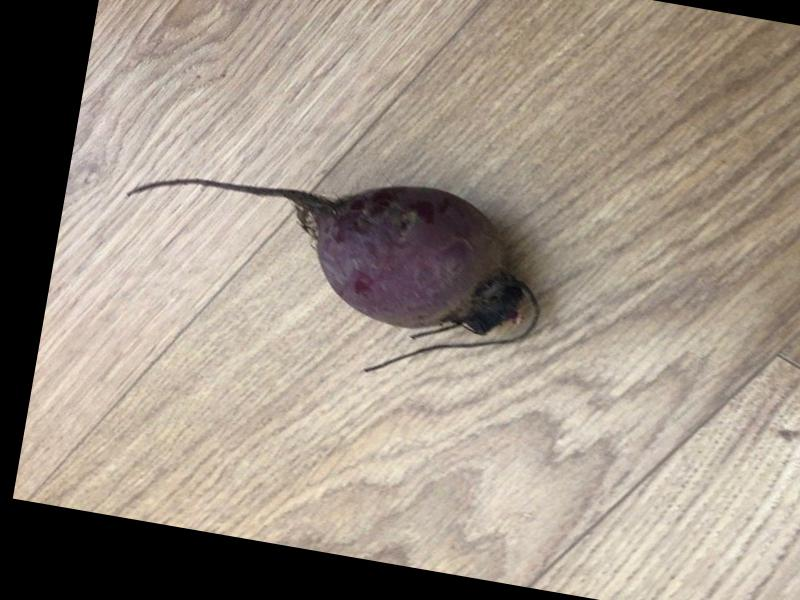Beet: (102, 135, 557, 398)
